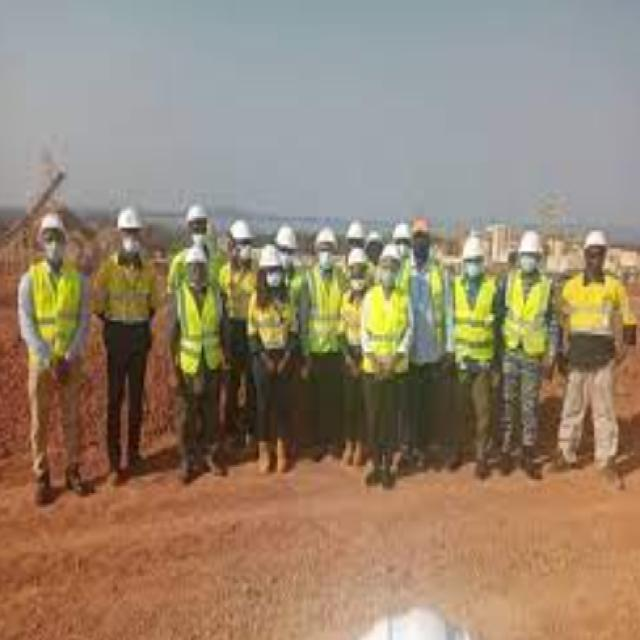hard_hat: (35, 211, 68, 261), (116, 205, 146, 257), (581, 228, 608, 272), (517, 228, 544, 272), (258, 245, 284, 289), (230, 219, 256, 262), (184, 248, 210, 291), (185, 203, 210, 247), (314, 227, 338, 271), (275, 225, 299, 267), (346, 246, 368, 290), (379, 244, 401, 286), (464, 237, 486, 275), (390, 222, 414, 255), (346, 220, 366, 253), (366, 229, 384, 260)
shoes: (544, 448, 626, 491), (31, 467, 91, 503), (107, 450, 154, 485), (180, 452, 228, 484), (447, 448, 491, 480), (501, 446, 541, 480), (364, 457, 397, 492)
vest: (561, 271, 639, 353), (25, 262, 81, 367), (91, 252, 163, 330), (361, 283, 411, 377), (249, 287, 300, 379), (173, 283, 223, 375), (166, 247, 220, 331), (501, 270, 553, 357), (450, 274, 500, 364), (402, 261, 446, 351), (220, 260, 264, 350), (306, 266, 344, 357), (342, 289, 376, 351), (274, 264, 304, 329)
